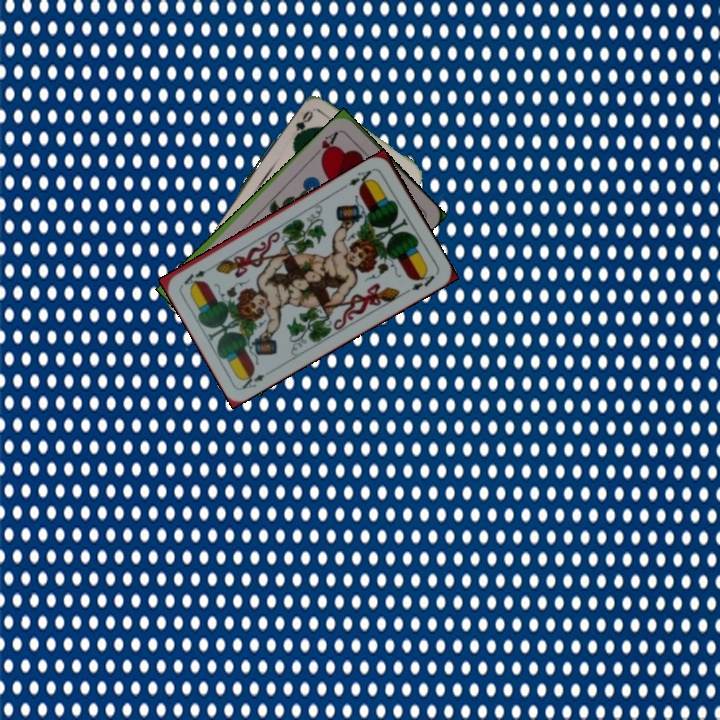EA: (237, 366, 275, 392), (344, 164, 377, 190)
GO: (289, 107, 316, 145)
HA: (316, 127, 343, 162)
